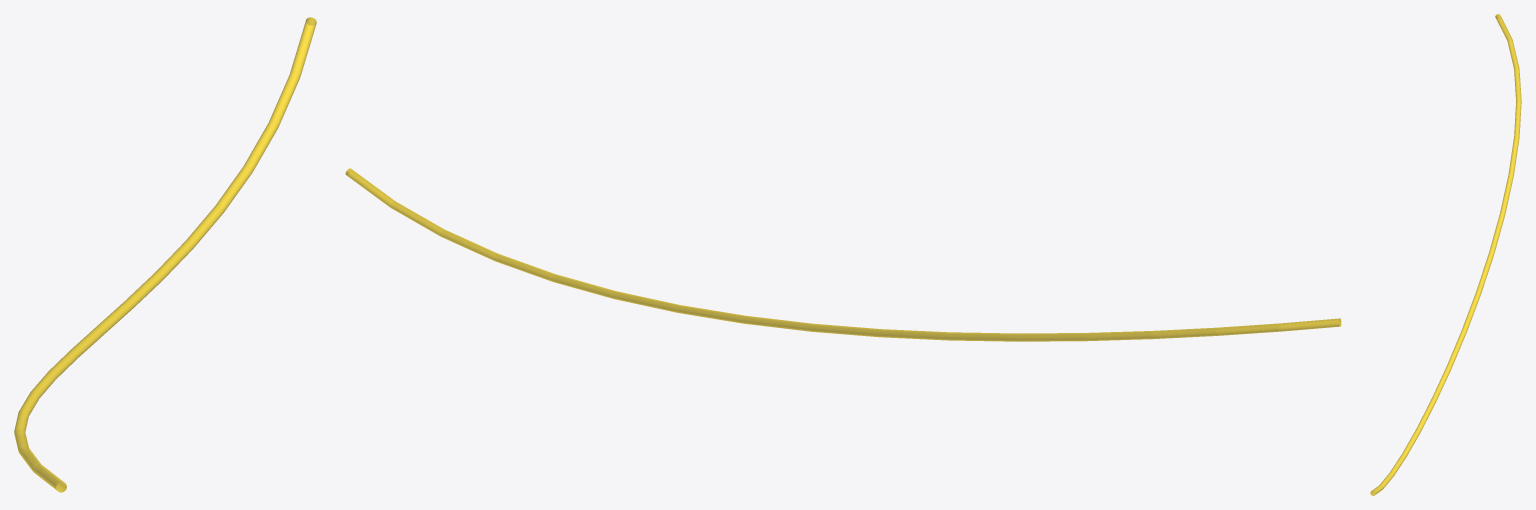
Rendered from Event_402970704_track_53.fbx.
3 views of the same model, side by side, from view 1: azimuth 90°, elevation 25°; view 2: azimuth 150°, elevation 25°; view 3: azimuth 270°, elevation 25° (orthographic). The views are drawn at different scales.
Parts seen in each view (by area): view 1: Model; view 2: Model; view 3: Model.
Boxes of the visible parts, x1,y1,x2,y2 form: Model: (14,17,316,492); Model: (345,168,1341,341); Model: (1370,14,1521,495).
Bounding box in the file's own units: 6.06 × 1.15 × 1.09.
